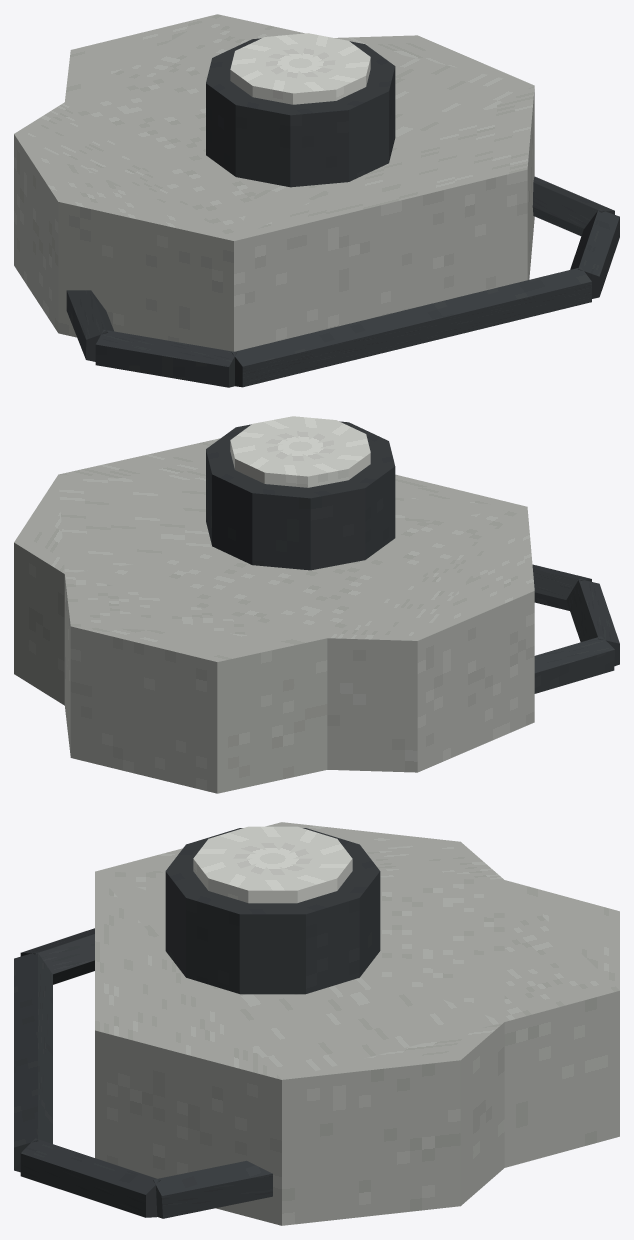
Rendered from mask_filter.glb.
The picture shows the model from 3 angles, top to bottom: view 1: azimuth 30°, elevation 25°; view 2: azimuth 150°, elevation 25°; view 3: azimuth 270°, elevation 25°; orthographic projection. The views are drawn at different scales.
Parts seen in each view (by area): view 1: block_contoured face shell, block_filter housing, block_strap 2, block_filter face, block_strap 1, block_strap 3, block_strap 4, block_strap 0; view 2: block_contoured face shell, block_filter housing, block_filter face, block_strap 0, block_strap 1, block_strap 2; view 3: block_contoured face shell, block_filter housing, block_filter face, block_strap 2, block_strap 3, block_strap 4, block_strap 1.
Part boxes in pixels (x1=…): block_contoured face shell: x1=14, y1=14, x2=534, y2=351; block_filter housing: x1=206, y1=38, x2=395, y2=187; block_strap 2: x1=231, y1=267, x2=591, y2=387; block_filter face: x1=230, y1=33, x2=370, y2=104; block_strap 1: x1=95, y1=330, x2=236, y2=387; block_strap 3: x1=570, y1=209, x2=619, y2=298; block_strap 4: x1=532, y1=176, x2=614, y2=235; block_strap 0: x1=66, y1=290, x2=113, y2=361; block_contoured face shell: x1=14, y1=438, x2=534, y2=793; block_filter housing: x1=206, y1=421, x2=395, y2=570; block_filter face: x1=230, y1=416, x2=370, y2=487; block_strap 0: x1=534, y1=636, x2=614, y2=693; block_strap 1: x1=566, y1=578, x2=619, y2=666; block_strap 2: x1=532, y1=564, x2=591, y2=610; block_contoured face shell: x1=95, y1=822, x2=619, y2=1225; block_filter housing: x1=165, y1=828, x2=380, y2=994; block_filter face: x1=193, y1=826, x2=352, y2=903; block_strap 2: x1=14, y1=951, x2=52, y2=1172; block_strap 3: x1=20, y1=1138, x2=160, y2=1217; block_strap 4: x1=153, y1=1160, x2=272, y2=1218; block_strap 1: x1=20, y1=928, x2=94, y2=984.
Bounding box in the file's own units: 0.1905 × 0.074 × 0.1704.
Materials: 1 (1 with a texture image).
